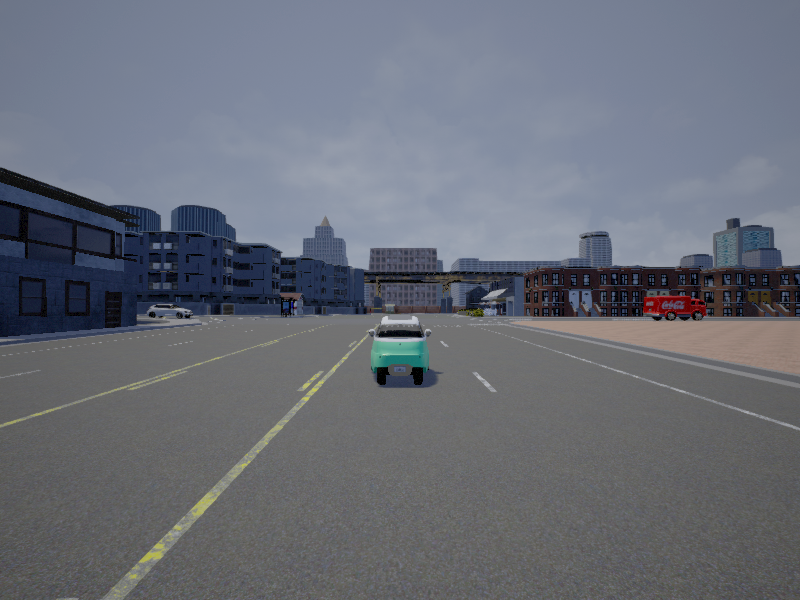Benign: (370, 315, 432, 387), (641, 295, 708, 321), (145, 303, 193, 318)
